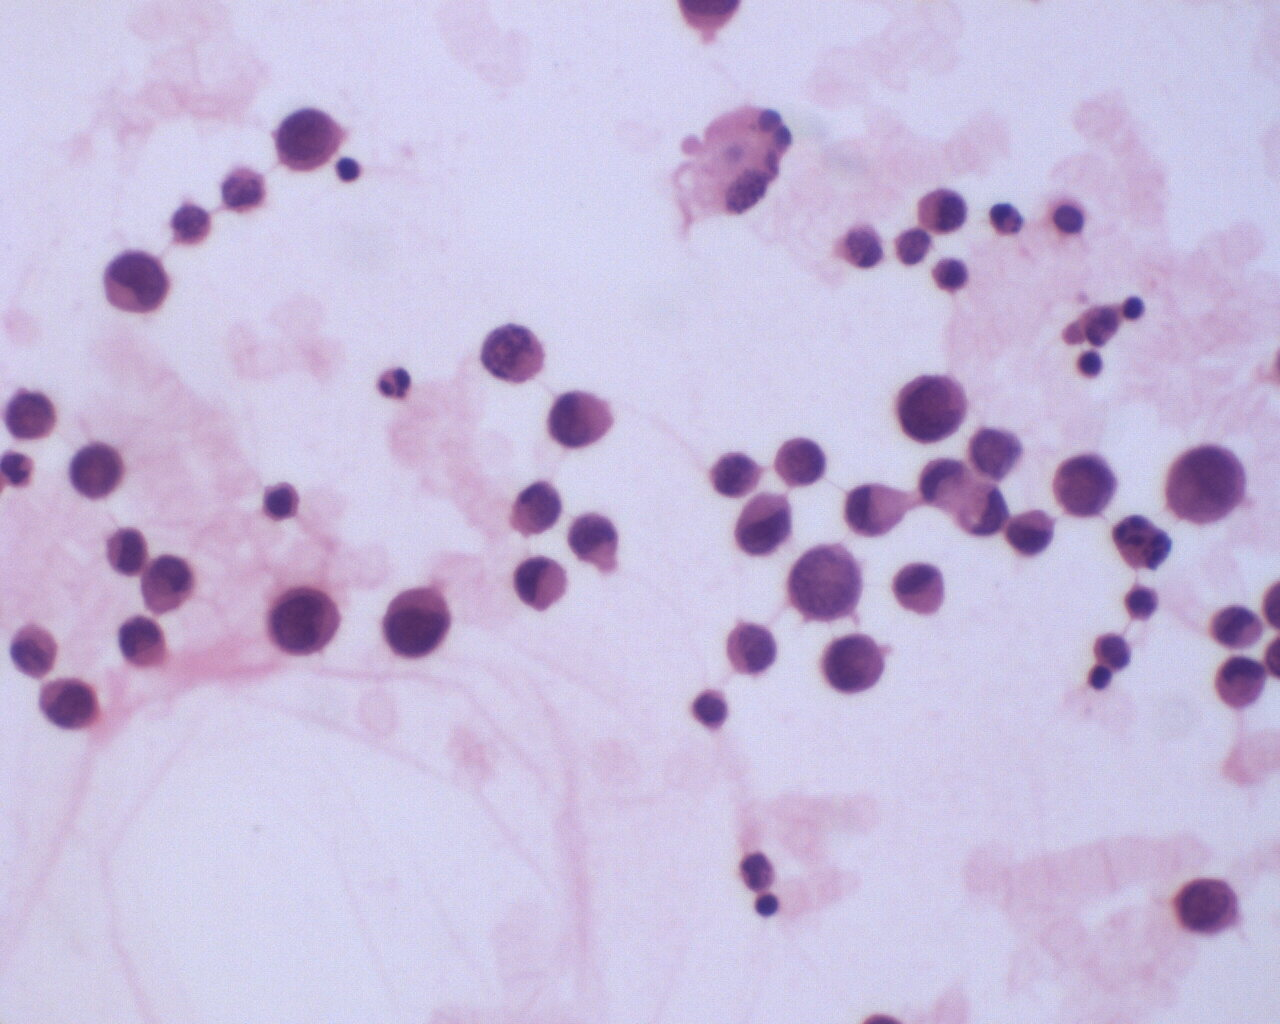ab: (1157, 440, 1251, 535), (786, 539, 867, 622), (378, 582, 456, 661), (897, 370, 974, 448), (263, 582, 341, 657), (100, 247, 174, 321), (273, 104, 348, 174), (816, 631, 894, 696), (1171, 869, 1241, 940), (1045, 451, 1117, 520), (65, 437, 130, 503), (36, 671, 104, 729), (722, 616, 779, 680), (771, 430, 829, 490), (116, 609, 170, 672)
neutro: (376, 363, 415, 401)
